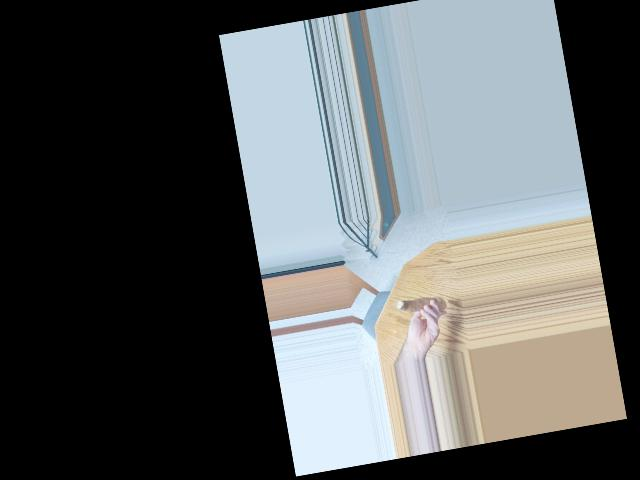sweet_potato: (391, 293, 447, 317)
